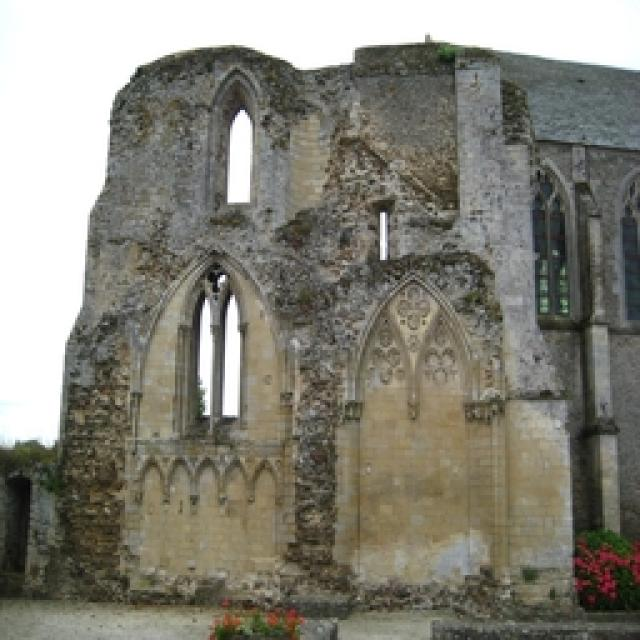Abbey: (131, 89, 573, 596)
